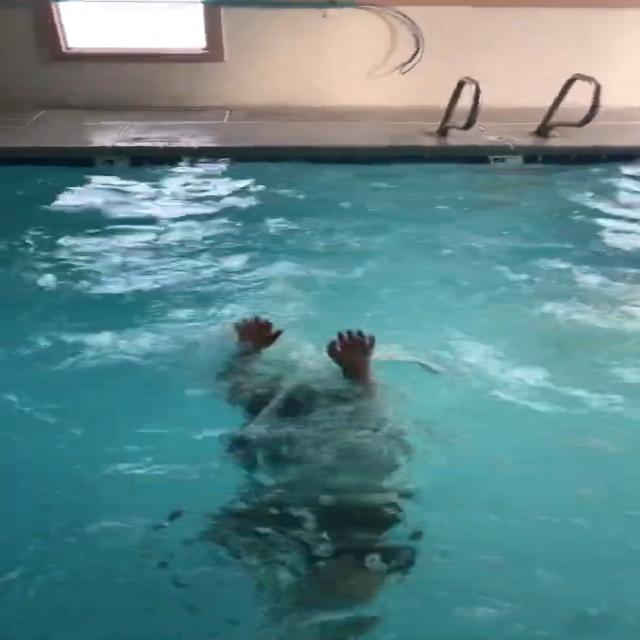Drowning: (198, 309, 432, 603)
